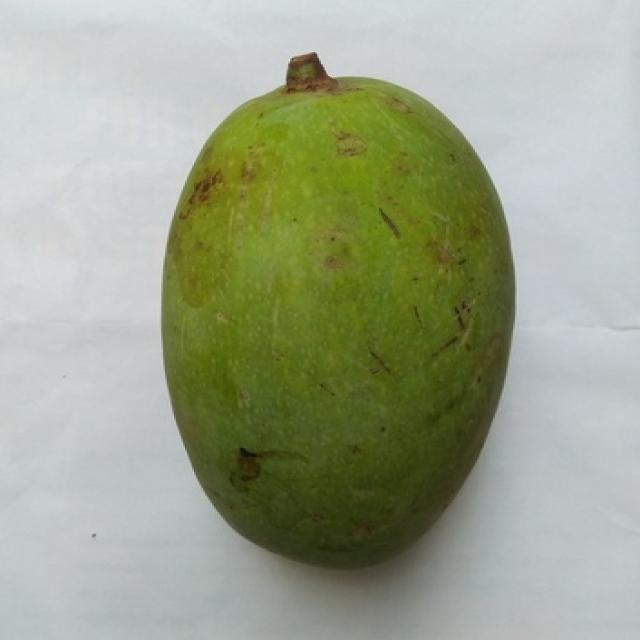Mango: (163, 63, 513, 563)
